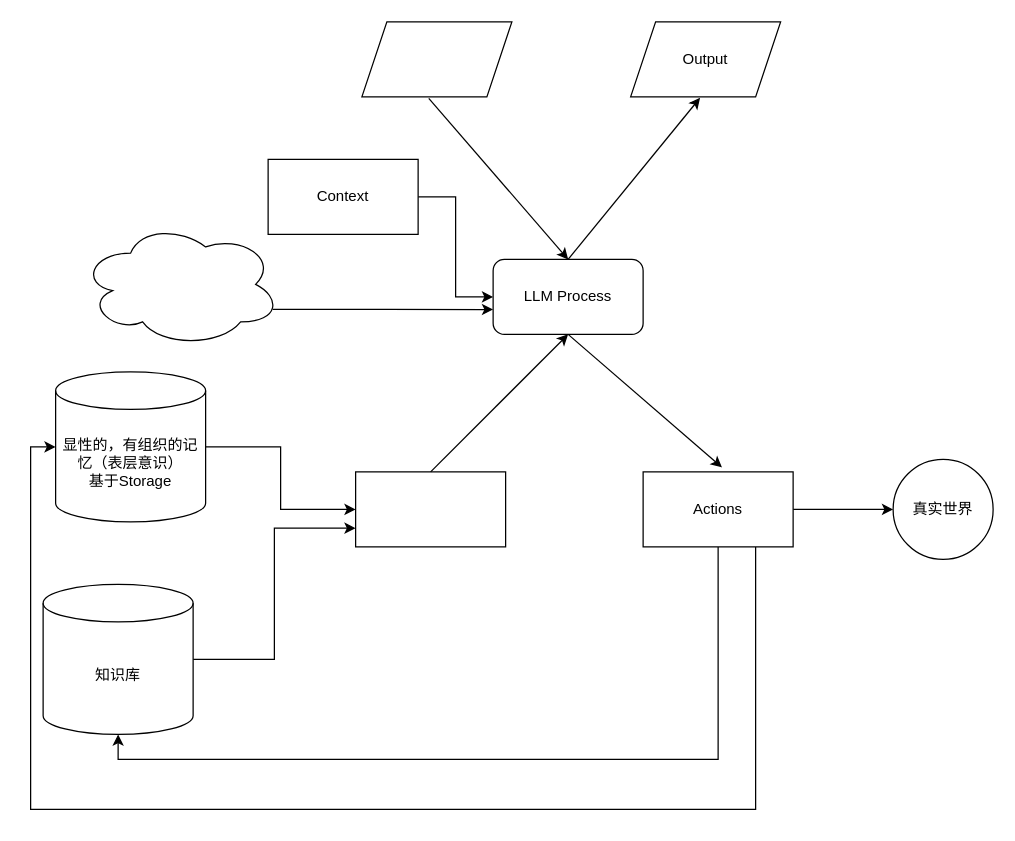
This 1015x841 diagram has some shape labels left out. Each missing label, with the centre of its shape:
Functions: [430,509]
Input: [436,59]
潜意识 涌现的直觉性能力 （基于神经元网络））: [180,284]
